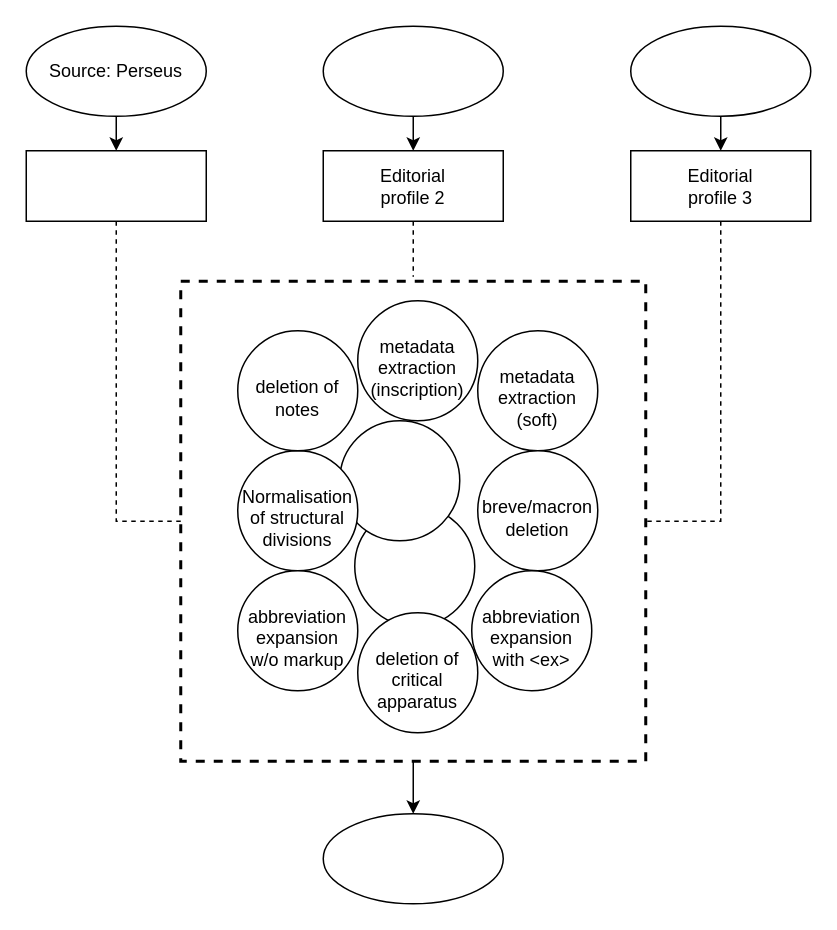
Image size: 837x930. Some labels were removed from this diagram. Each missing label, with the centre of its shape:
"Editorial profile 1" goes at point (115, 185).
"Homegenous TEI version" goes at point (412, 858).
"Source: Corpus Corporum" goes at point (720, 70).
"Source: EDR" goes at point (412, 70).
